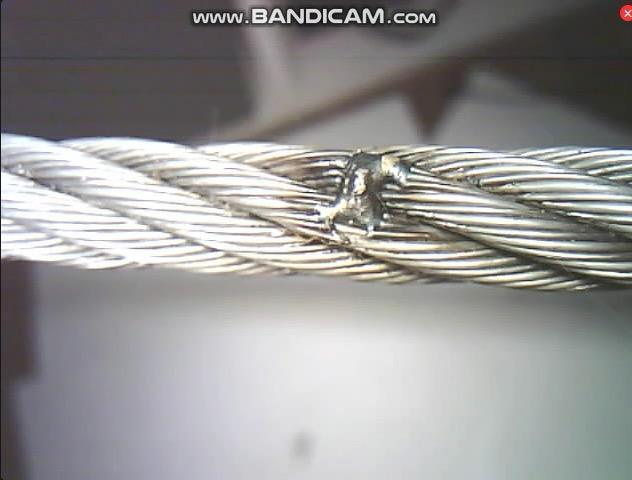thunderbolt: (297, 141, 439, 234)
